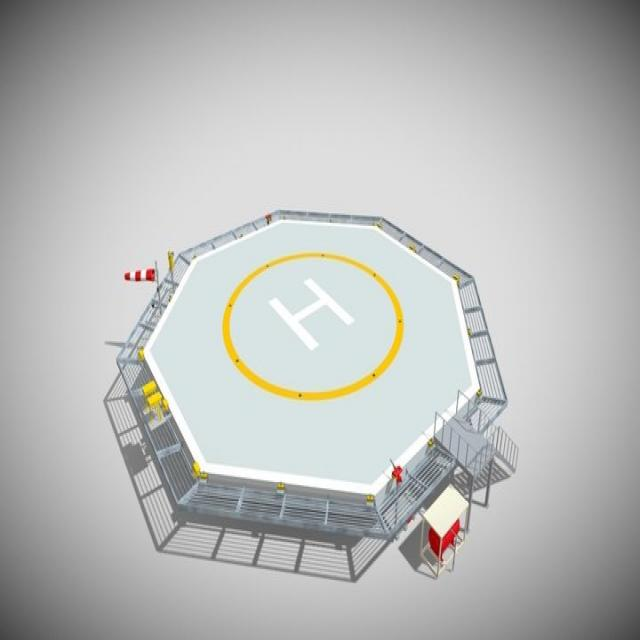helipad: (216, 247, 408, 406)
